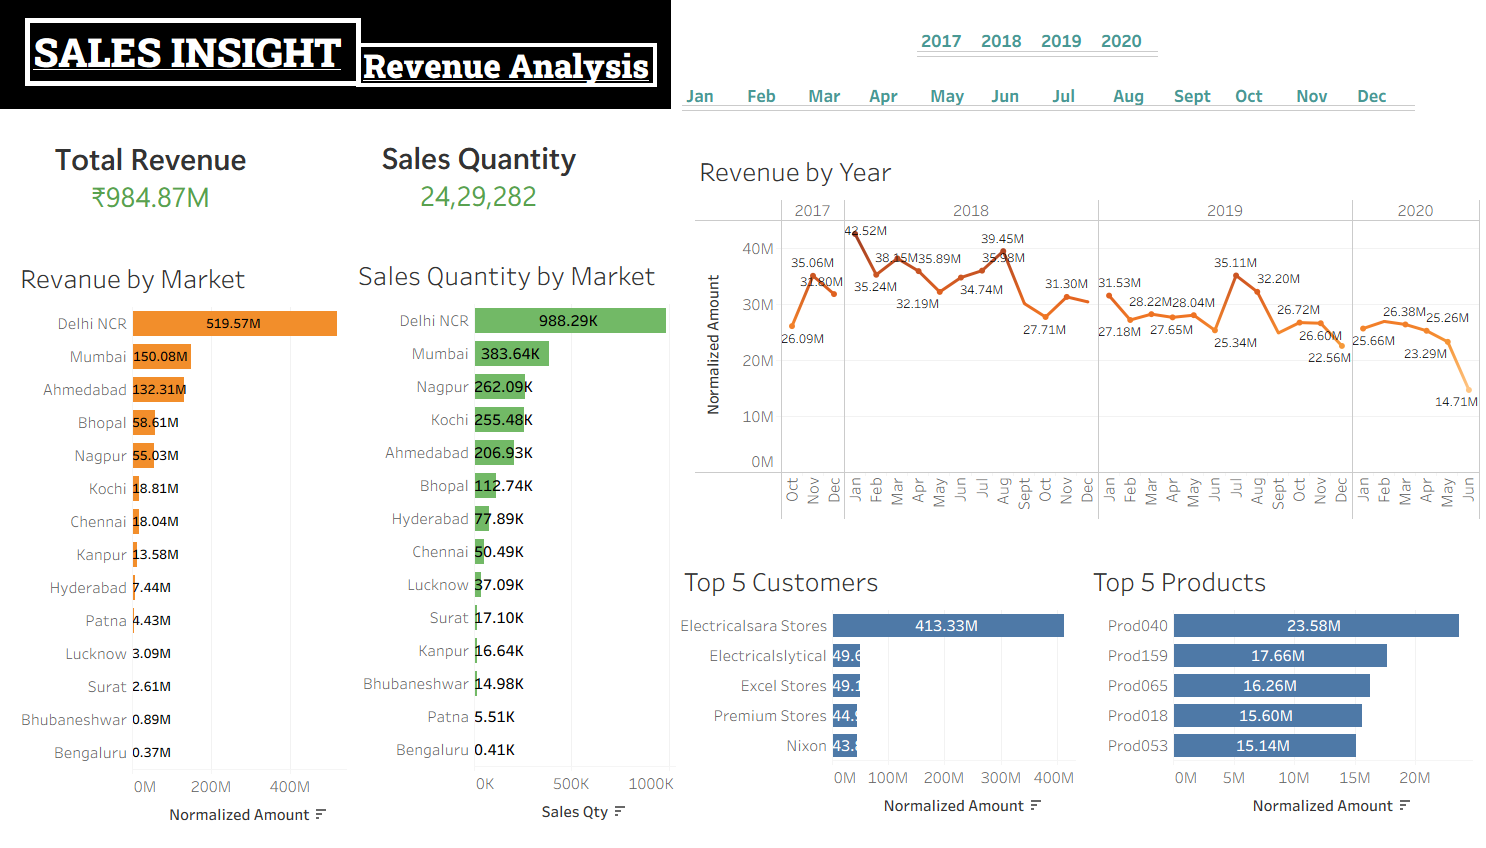

This screenshot's page, from the dashboard's own definition file:
{"tool":"tableau","page":{"name":"Dashboard- Revenue Analysis","canvas":[1500,900],"ordinal":1},"visuals":[{"type":"blank","box":[11,13,656,110]},{"type":"text","box":[32,28,620,76]},{"type":"worksheet","title":"Year","mark":"Automatic","cols":["cy_date"],"box":[928,29,253,49]},{"type":"worksheet","title":"Month","mark":"Automatic","cols":["cy_date"],"box":[693,84,791,51]},{"type":"worksheet","title":"Quantity","mark":"Automatic","box":[380,136,250,106]},{"type":"worksheet","title":"Revenue","mark":"Automatic","box":[62,137,210,105]},{"type":"worksheet","title":"Revenue by Year","mark":"Automatic","rows":["Calculation_792915037487079424"],"cols":["cy_date","cy_date"],"box":[706,164,785,370]},{"type":"worksheet","title":"Sales Quantity by Market","mark":"Automatic","rows":["markets_name"],"cols":["sales_qty"],"box":[365,268,322,599]},{"type":"worksheet","title":"Revanue by Market","mark":"Automatic","rows":["markets_name"],"cols":["Calculation_792915037487079424"],"box":[27,271,331,607]},{"type":"worksheet","title":"Top 5 Customers","mark":"Automatic","rows":["custmer_name"],"cols":["Calculation_792915037487079424"],"box":[691,574,396,269]},{"type":"worksheet","title":"Top 5 Products","mark":"Automatic","rows":["product_code (products)"],"cols":["Calculation_792915037487079424"],"box":[1100,574,384,268]}]}

Visuals, with their boxes on the page's 1500x900 design canvas (x1, y1, x2, y2). These are canvas units, not pixel positions in the 1486x848 screenshot, which may show the page scaled, cropped or inside an application window:
blank: region(11, 13, 667, 123)
text: region(32, 28, 652, 104)
"Year" worksheet: region(928, 29, 1181, 78)
"Month" worksheet: region(693, 84, 1484, 135)
"Quantity" worksheet: region(380, 136, 630, 242)
"Revenue" worksheet: region(62, 137, 272, 242)
"Revenue by Year" worksheet: region(706, 164, 1491, 534)
"Sales Quantity by Market" worksheet: region(365, 268, 687, 867)
"Revanue by Market" worksheet: region(27, 271, 358, 878)
"Top 5 Customers" worksheet: region(691, 574, 1087, 843)
"Top 5 Products" worksheet: region(1100, 574, 1484, 842)
